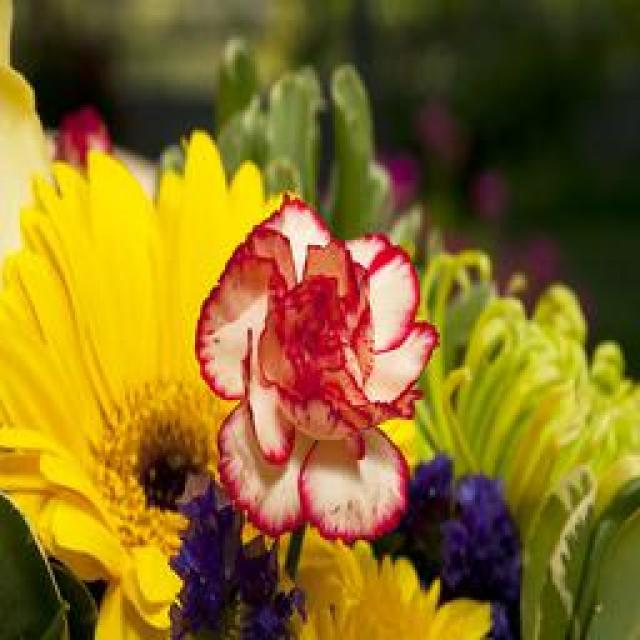carnation: (196, 196, 469, 548)
